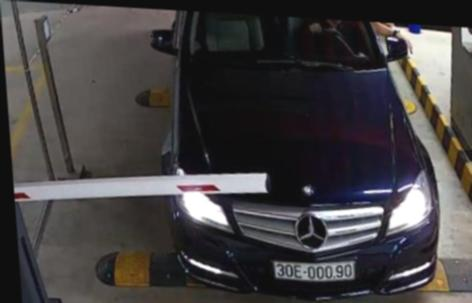License_Plate: (268, 253, 360, 284)
